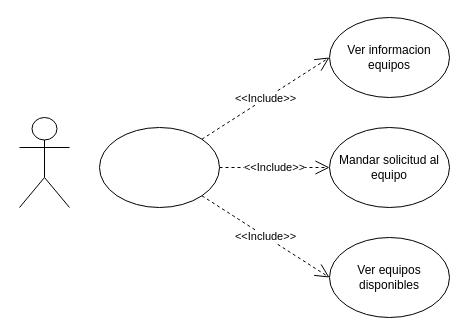
This 467x335 diagram has some shape labels left out. The shapes that lost their labels are listed below. From the top down, each one's centre as x and y in pixels, then its label:
At point 44,162: "USUARIO".
At point 159,167: "Unirse a equipos".
